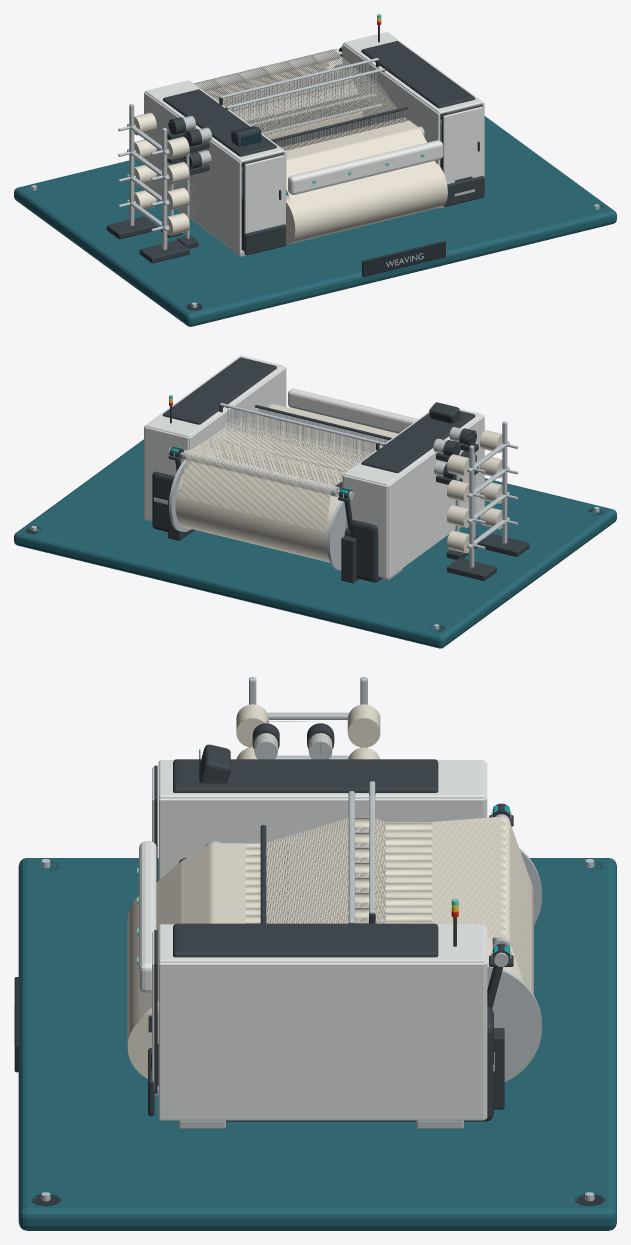
File: weaving.glb
The picture shows the model from 3 angles, top to bottom: view 1: azimuth 30°, elevation 25°; view 2: azimuth 150°, elevation 25°; view 3: azimuth 270°, elevation 25°; orthographic projection. The views are drawn at different scales.
Visible parts, largest first — view 1: base_skid, continuous_woven_cloth, ultimax_side_pod_side, working_roll.004, white_operator_fascia, pod_top_dark_inset.001, ultimax_side_pod_side.002, service_door, service_door.001, pod_top_dark_inset, all_1440_healds.001, working_roll (+17 smaller); view 2: base_skid, working_roll, ultimax_side_pod_side, pod_top_dark_inset.001, ultimax_side_pod_side.002, pod_top_dark_inset, all_1440_healds, white_operator_fascia, ultimax_side_pod_rear, ultimax_side_pod_rear.001, working_roll.001, main_cast_sideframe (+21 smaller); view 3: base_skid, ultimax_side_pod_side.003, ultimax_side_pod_side.001, pod_top_dark_inset.001, pod_top_dark_inset, continuous_woven_cloth, ultimax_side_pod_roof.001, ultimax_side_pod_roof, beam_flange.001, working_roll.004, white_operator_fascia, weft_package.007 (+6 smaller).
Part boxes in pixels (x1=…): base_skid: x1=14, y1=116, x2=616, y2=326; continuous_woven_cloth: x1=286, y1=120, x2=440, y2=210; ultimax_side_pod_side: x1=144, y1=92, x2=241, y2=254; working_roll.004: x1=286, y1=163, x2=447, y2=244; white_operator_fascia: x1=288, y1=140, x2=443, y2=194; pod_top_dark_inset.001: x1=361, y1=41, x2=475, y2=108; ultimax_side_pod_side.002: x1=342, y1=44, x2=440, y2=166; service_door: x1=244, y1=155, x2=284, y2=233; service_door.001: x1=443, y1=106, x2=482, y2=184; pod_top_dark_inset: x1=163, y1=89, x2=276, y2=156; all_1440_healds.001: x1=233, y1=72, x2=377, y2=130; working_roll: x1=216, y1=70, x2=362, y2=139; base_skid: x1=14, y1=439, x2=616, y2=648; working_roll: x1=175, y1=462, x2=340, y2=562; ultimax_side_pod_side: x1=387, y1=415, x2=484, y2=578; pod_top_dark_inset.001: x1=162, y1=357, x2=276, y2=424; ultimax_side_pod_side.002: x1=189, y1=367, x2=286, y2=529; pod_top_dark_inset: x1=361, y1=411, x2=475, y2=472; all_1440_healds: x1=227, y1=407, x2=371, y2=466; white_operator_fascia: x1=288, y1=388, x2=417, y2=433; ultimax_side_pod_rear: x1=343, y1=475, x2=387, y2=578; ultimax_side_pod_rear.001: x1=144, y1=426, x2=189, y2=529; working_roll.001: x1=182, y1=449, x2=340, y2=496; main_cast_sideframe: x1=350, y1=520, x2=382, y2=582; base_skid: x1=18, y1=858, x2=616, y2=1230; ultimax_side_pod_side.003: x1=158, y1=962, x2=484, y2=1120; ultimax_side_pod_side.001: x1=158, y1=798, x2=484, y2=923; pod_top_dark_inset.001: x1=173, y1=923, x2=438, y2=957; pod_top_dark_inset: x1=173, y1=759, x2=438, y2=792; continuous_woven_cloth: x1=140, y1=843, x2=245, y2=1016; ultimax_side_pod_roof.001: x1=158, y1=924, x2=484, y2=962; ultimax_side_pod_roof: x1=158, y1=760, x2=484, y2=798; beam_flange.001: x1=487, y1=964, x2=542, y2=1081; working_roll.004: x1=127, y1=895, x2=158, y2=1078; white_operator_fascia: x1=139, y1=841, x2=156, y2=993; weft_package.007: x1=347, y1=704, x2=380, y2=747.
Bounding box in the file's own units: 6.2 × 1.96 × 4.44.
